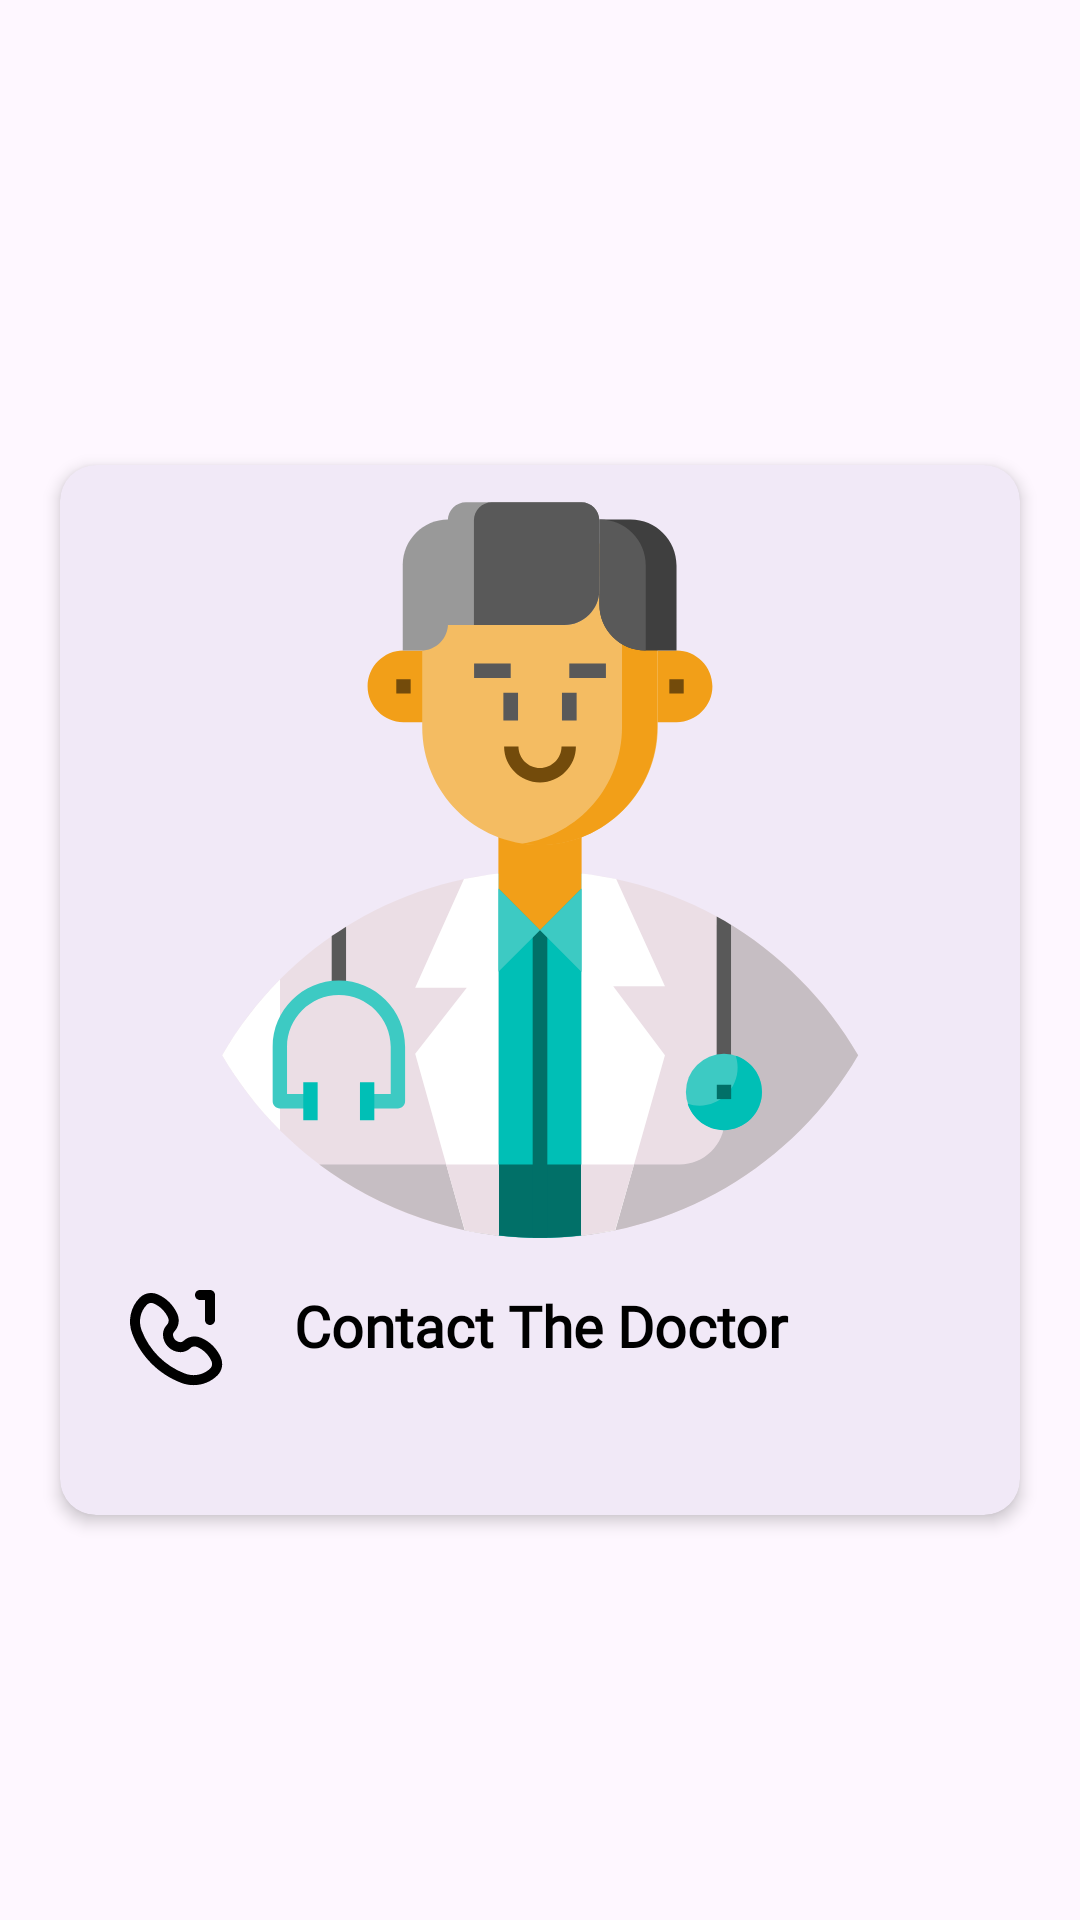

Locate icon controls on the screen. Image size 1080px×1920px, boxes as Rect(x1, y1, x2, y2).
first call: Rect(130, 1290, 223, 1386)
